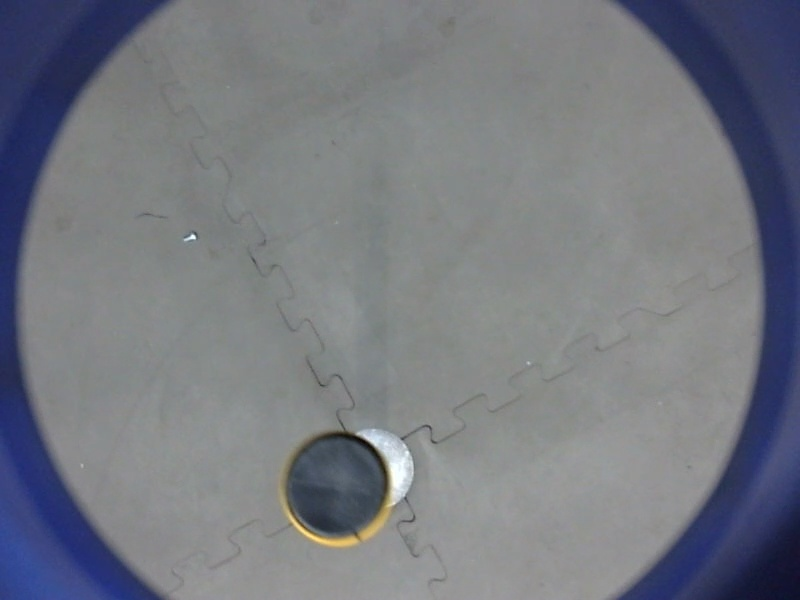tip: (273, 423, 402, 554)
